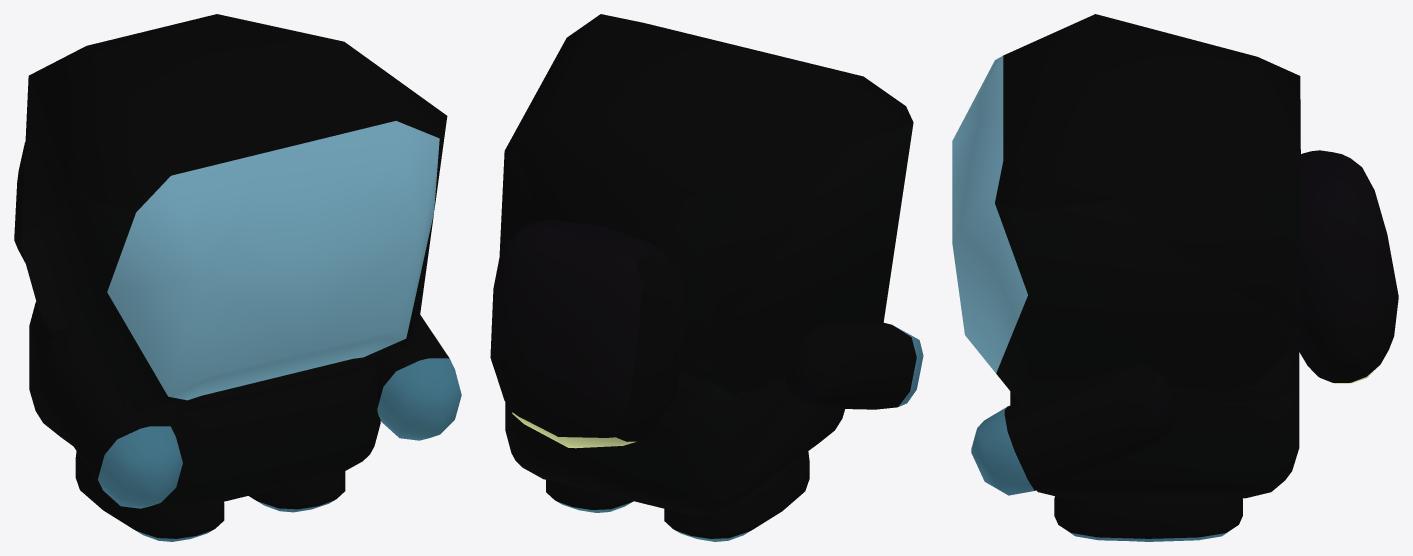
Rendered from player.glb.
3 renders of one model, left to right at view 1: azimuth 30°, elevation 25°; view 2: azimuth 150°, elevation 25°; view 3: azimuth 270°, elevation 25°, orthographic. The views are drawn at different scales.
Visible parts, largest first — view 1: head, body, arms, arms.001, jetpack; view 2: head, jetpack, body, arms, arms.001; view 3: head, jetpack, body, arms, arms.001.
Boxes of the visible parts, x1,y1,x2,y2 form: head: (20,14,447,414); body: (29,301,380,509); arms: (35,315,461,508); arms.001: (75,451,345,541); jetpack: (14,141,25,262); head: (499,14,913,396); jetpack: (490,220,687,448); body: (505,373,844,515); arms: (785,322,923,409); arms.001: (546,451,809,541); head: (952,14,1301,406); jetpack: (1295,150,1398,383); body: (1010,344,1299,498); arms: (971,364,1177,495); arms.001: (1054,496,1242,541).
Bounding box in the file's own units: 0.7931 × 0.9752 × 0.8952.
Materials: 1 (1 with a texture image).
